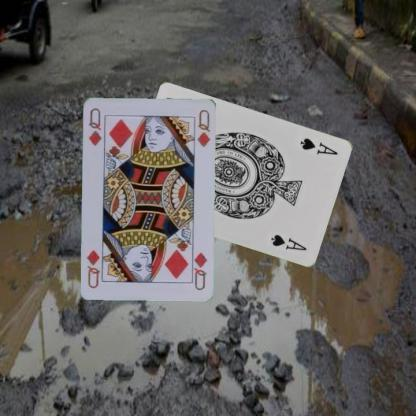As: (298, 135, 340, 156)
Qd: (188, 246, 209, 291), (85, 105, 103, 147)
